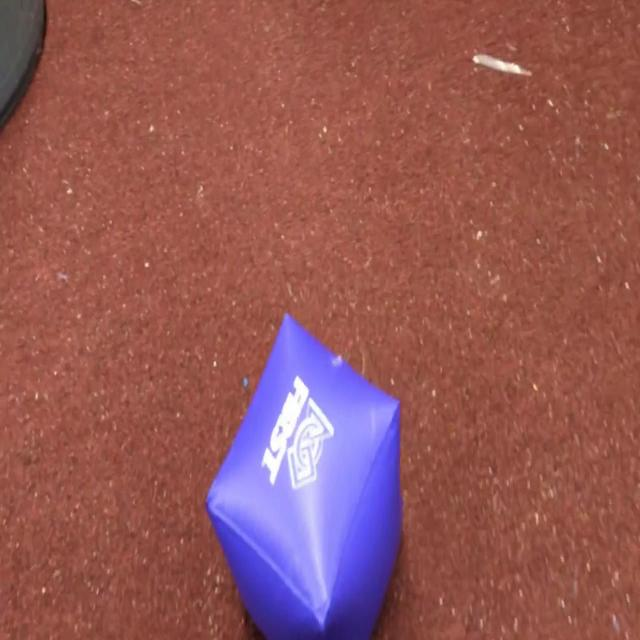frc_cube: (203, 316, 399, 640)
